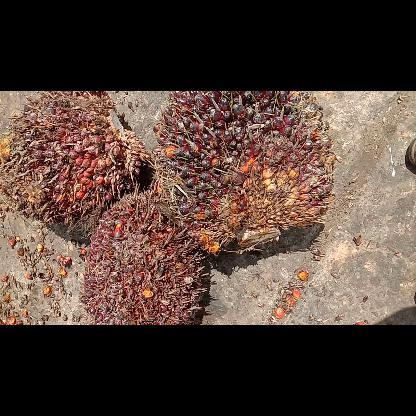Kurang masak: (0, 91, 148, 230)
TBS masak: (152, 92, 336, 256), (84, 192, 210, 324)
